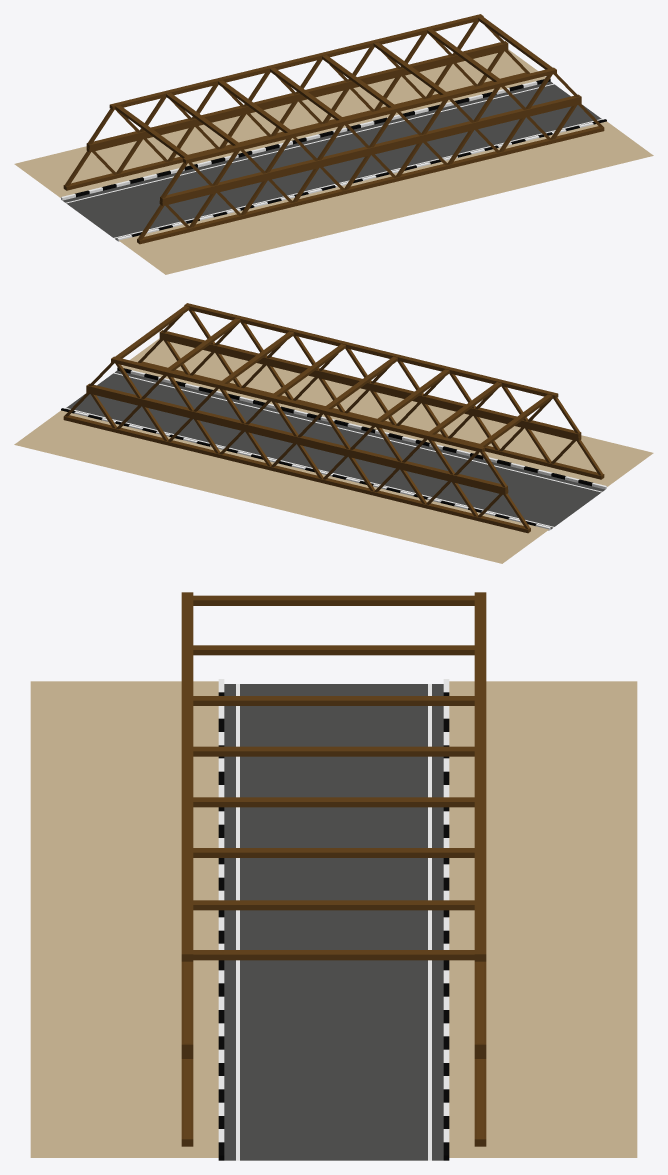
Rendered from bridge_3.fbx.
The picture shows the model from 3 angles, top to bottom: view 1: azimuth 30°, elevation 25°; view 2: azimuth 150°, elevation 25°; view 3: azimuth 270°, elevation 25°; orthographic projection. The views are drawn at different scales.
Visible parts, largest first — view 1: bridge_3; view 2: bridge_3; view 3: bridge_3.
Part boxes in pixels (x1=…): bridge_3: x1=14, y1=14, x2=653, y2=274; bridge_3: x1=14, y1=303, x2=653, y2=563; bridge_3: x1=30, y1=592, x2=637, y2=1160.
Size of the model in its own units: 3116 by 452 by 1676.
